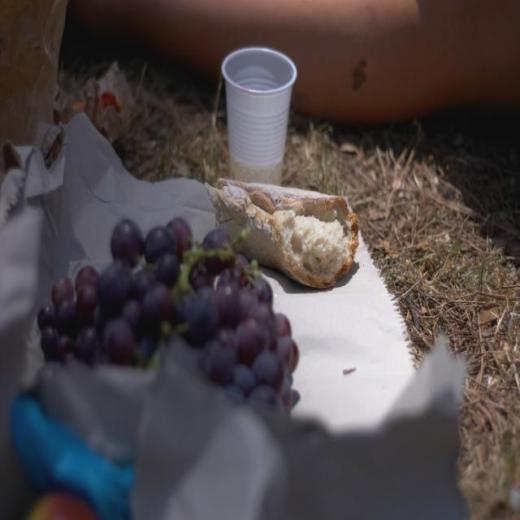Orange: (37, 217, 299, 418)
